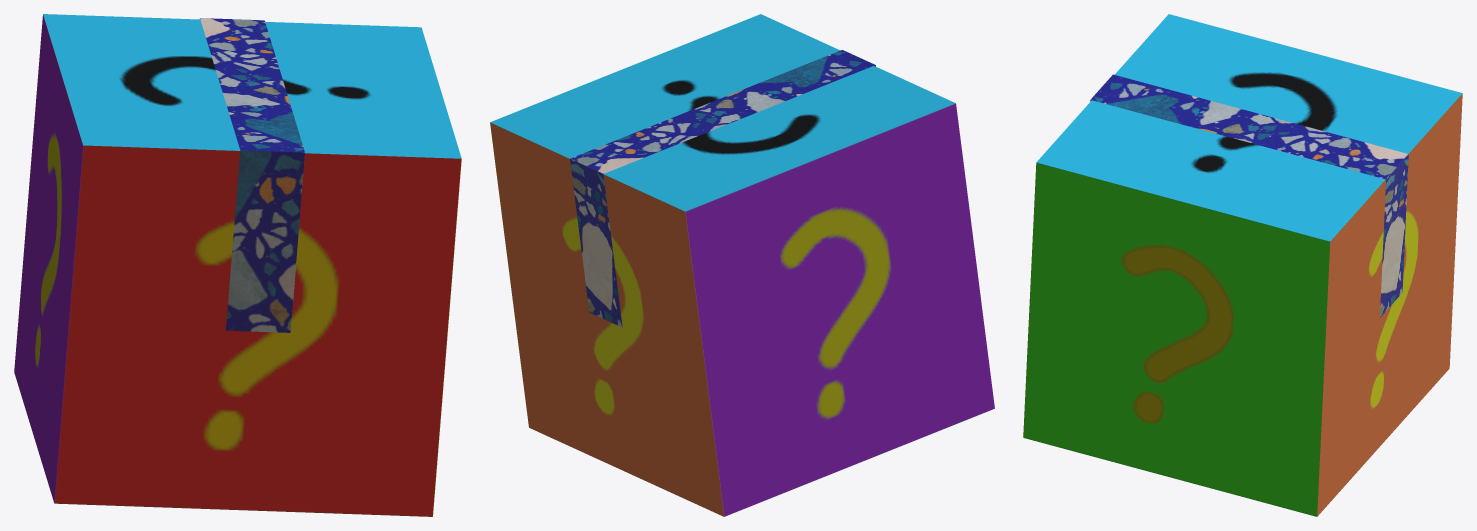
The model's file is Caixa Surpresa.fbx.
3 views of the same model, side by side, from view 1: azimuth 30°, elevation 25°; view 2: azimuth 150°, elevation 25°; view 3: azimuth 270°, elevation 25° (orthographic). The views are drawn at different scales.
Parts seen in each view (by area): view 1: Cube.008; view 2: Cube.008; view 3: Cube.008.
Boxes of the visible parts, bbox=[...] form: Cube.008: bbox=[14, 14, 461, 516]; Cube.008: bbox=[490, 14, 994, 516]; Cube.008: bbox=[1023, 14, 1462, 516].
Size of the model in its own units: 154 by 126 by 148.
